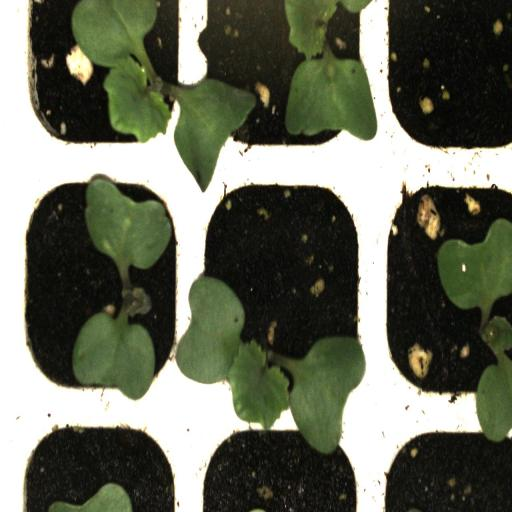Folha: (72, 292, 156, 401), (84, 178, 171, 275), (437, 218, 512, 314), (475, 316, 512, 443), (48, 482, 133, 512)
Germinacao: (194, 163, 375, 411), (14, 162, 194, 410), (375, 163, 512, 413), (192, 0, 376, 164), (8, 0, 192, 160)
